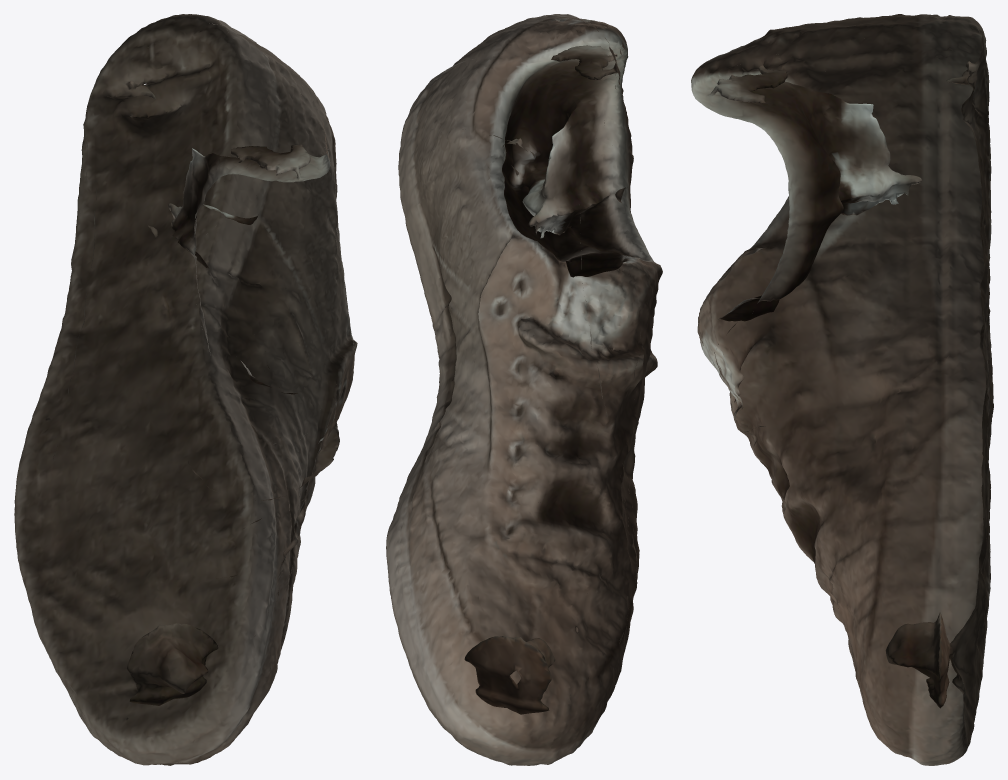
The model's file is shoe3.glb.
3 renders of one model, left to right at view 1: azimuth 30°, elevation 25°; view 2: azimuth 150°, elevation 25°; view 3: azimuth 270°, elevation 25°, orthographic. The views are drawn at different scales.
Size of the model in its own units: 0.3534 by 1 by 0.3704.
